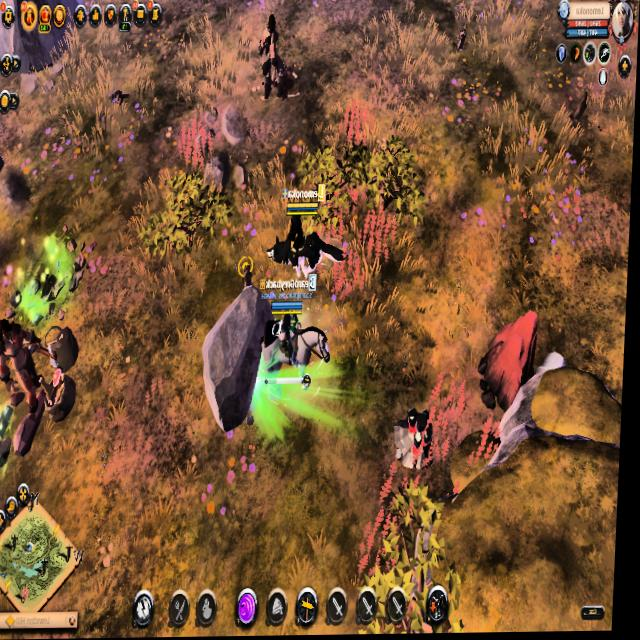ore tier 5: (395, 406, 446, 475)
rock tier 5: (480, 312, 545, 417)
